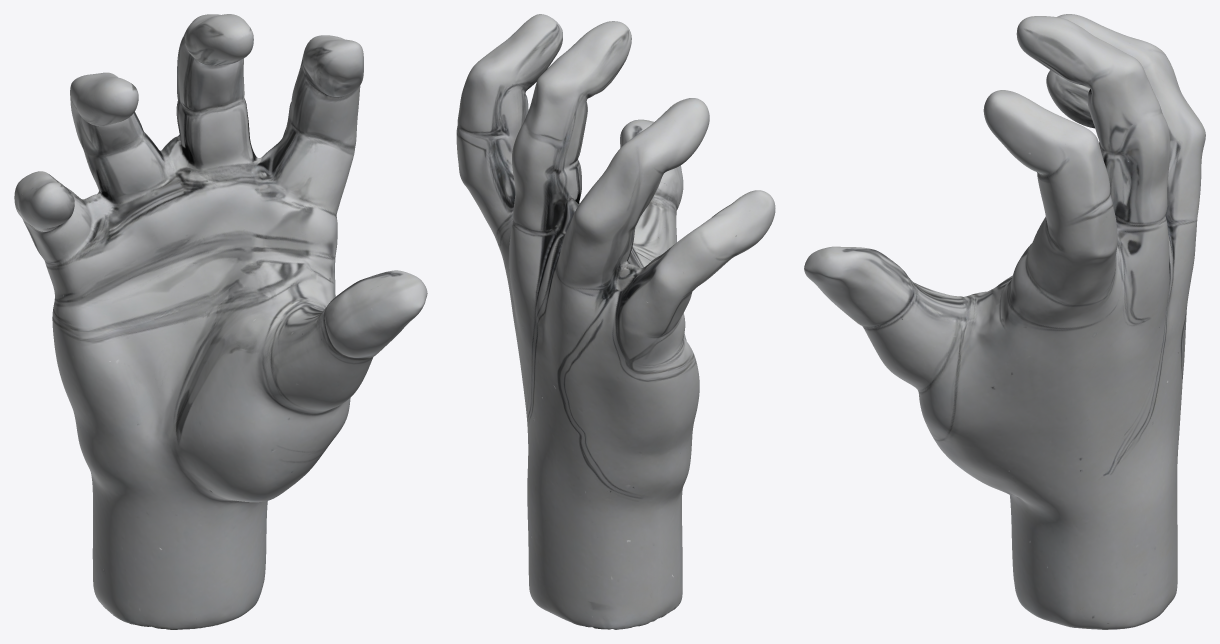
The model's file is hand.glb.
3 renders of one model, left to right at view 1: azimuth 30°, elevation 25°; view 2: azimuth 150°, elevation 25°; view 3: azimuth 270°, elevation 25°, orthographic. The views are drawn at different scales.
Bounding box in the file's own units: 1.17 × 2 × 1.23.
Materials: 1 (1 with a texture image).
